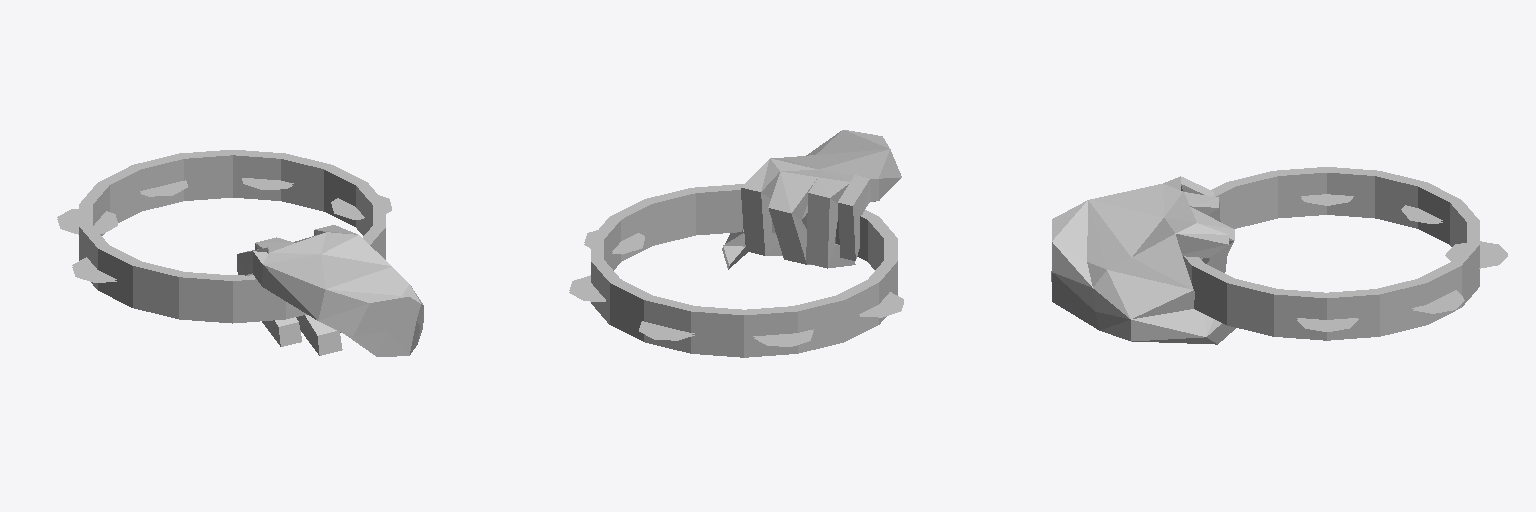
The model's file is hand_tambourine.obj.
The picture shows the model from 3 angles: view 1: azimuth 30°, elevation 25°; view 2: azimuth 150°, elevation 25°; view 3: azimuth 270°, elevation 25°; orthographic projection.
Visible parts, largest first — view 1: Converted object 0(m2), Converted object 0(m0), Converted object 0(m1); view 2: Converted object 0(m2), Converted object 0(m0), Converted object 0(m1); view 3: Converted object 0(m2), Converted object 0(m0), Converted object 0(m1).
Part boxes in pixels (x1,y1,x2,y2): Converted object 0(m2): (79,150,385,323); Converted object 0(m0): (237,225,423,356); Converted object 0(m1): (57,178,391,282); Converted object 0(m2): (591,184,897,357); Converted object 0(m0): (722,130,901,269); Converted object 0(m1): (569,230,903,346); Converted object 0(m2): (1183,167,1479,340); Converted object 0(m0): (1051,176,1235,344); Converted object 0(m1): (1297,194,1507,331).
Bounding box in the file's own units: 7.83 × 2.58 × 9.88.